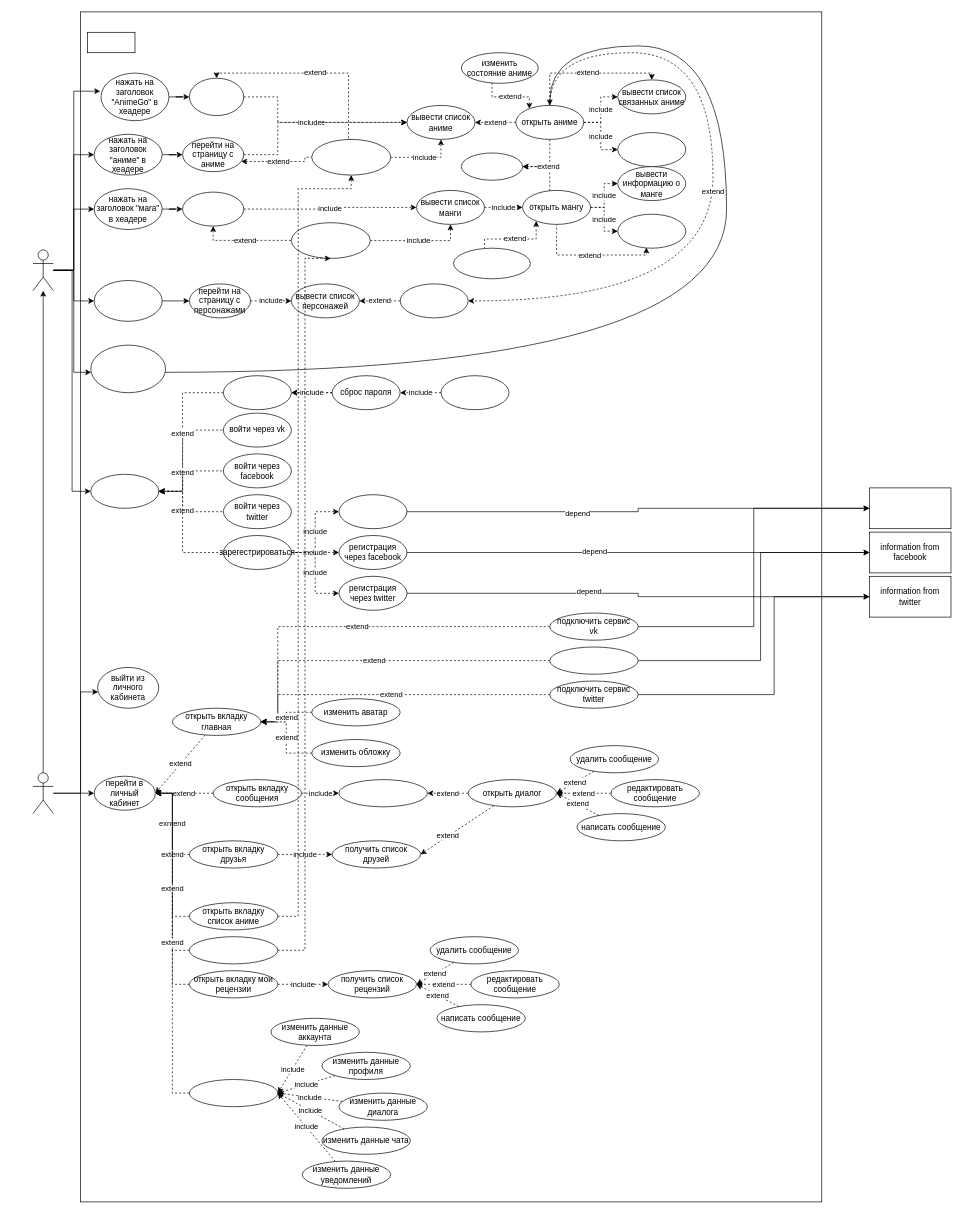
The diagram is 963 pixels wide and 1214 high, and some of its shapes have lost their labels. The centre of each missing label's shape, as x and y in pixels:
animego.org: (111,42)
information from vk: (910,508)
авторизованный пользователь: (42,793)
войти в аккаунт: (124,491)
вывести информацию об аниме: (651,149)
вывести список связанных манг: (651,231)
забыли пароль: (257,392)
изменить состояние манги: (491,263)
нажать на заголовок "персонажи" в хеадере: (128,300)
нажать на заголовок "случайное аниме" в хеадере: (128,368)
написать отзыв: (492,166)
оправка нового пароля на почту: (474,392)
открыть вкладку настройки: (233,1093)
открыть вкладку список манги: (233,950)
открыть персонажа: (434,300)
отсортировать аниме по критериям: (351,157)
отсортировать мангу по критериям: (330,240)
перейти на главную страницу: (216,97)
перейти на страницу с мангами: (213,208)
подключить сервис facebook: (593,660)
получить список диалогов: (382,793)
пользователь: (42,270)
регистрация через vk: (372,511)
